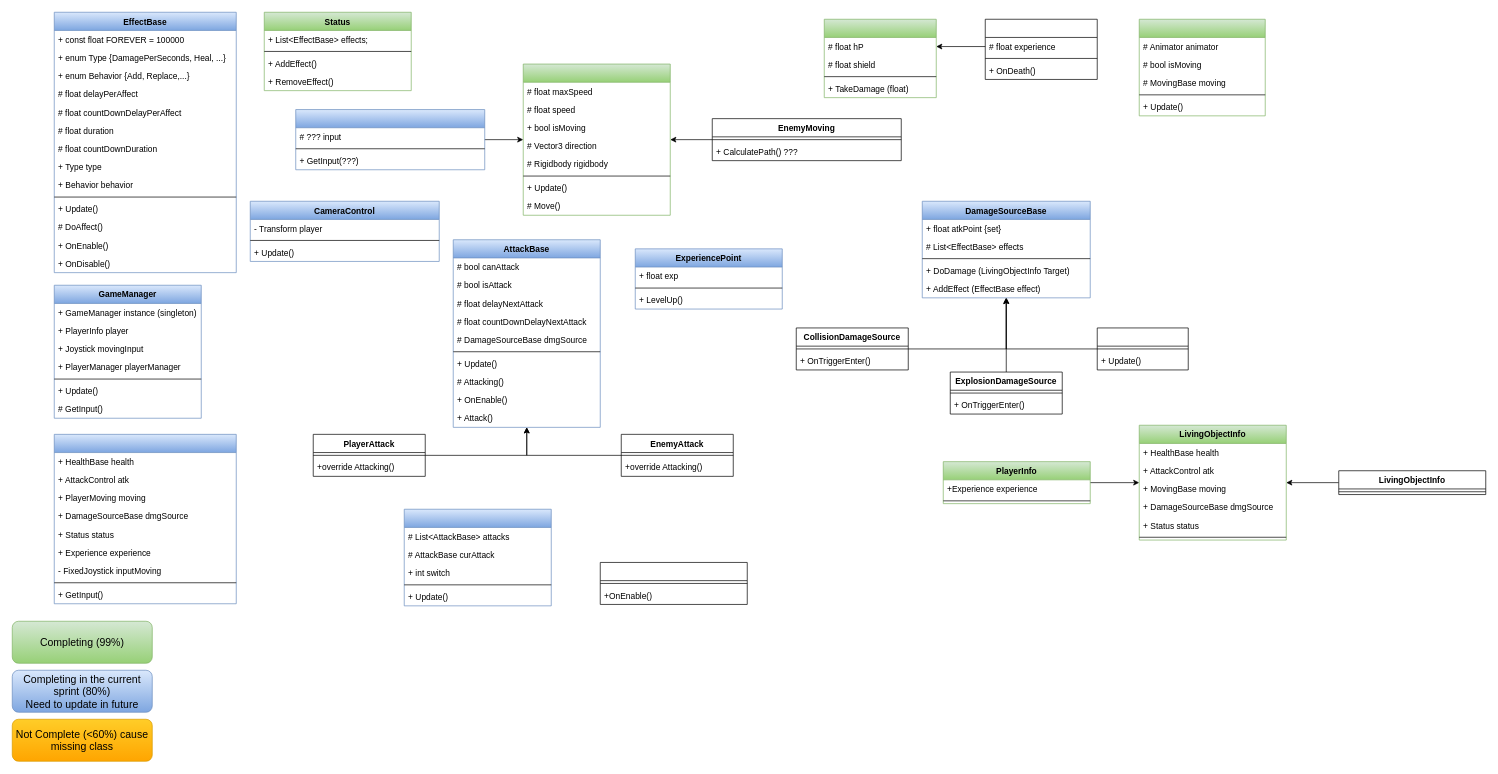
Some shapes in this 1498 by 774 pixel diagram are drawn without their labels. Each missing label, with the box of its shape:
AnimatorControl: (1139, 19, 1265, 116)
AttackControl: (404, 509, 551, 606)
EnemyHealth: (985, 19, 1097, 79)
HealthBase: (824, 19, 936, 98)
Item: (600, 562, 747, 604)
LaserDamageSource: (1097, 327, 1188, 370)
MovingBase: (523, 63, 670, 215)
PlayerManager: (54, 434, 236, 604)
PlayerMoving: (295, 109, 485, 170)
